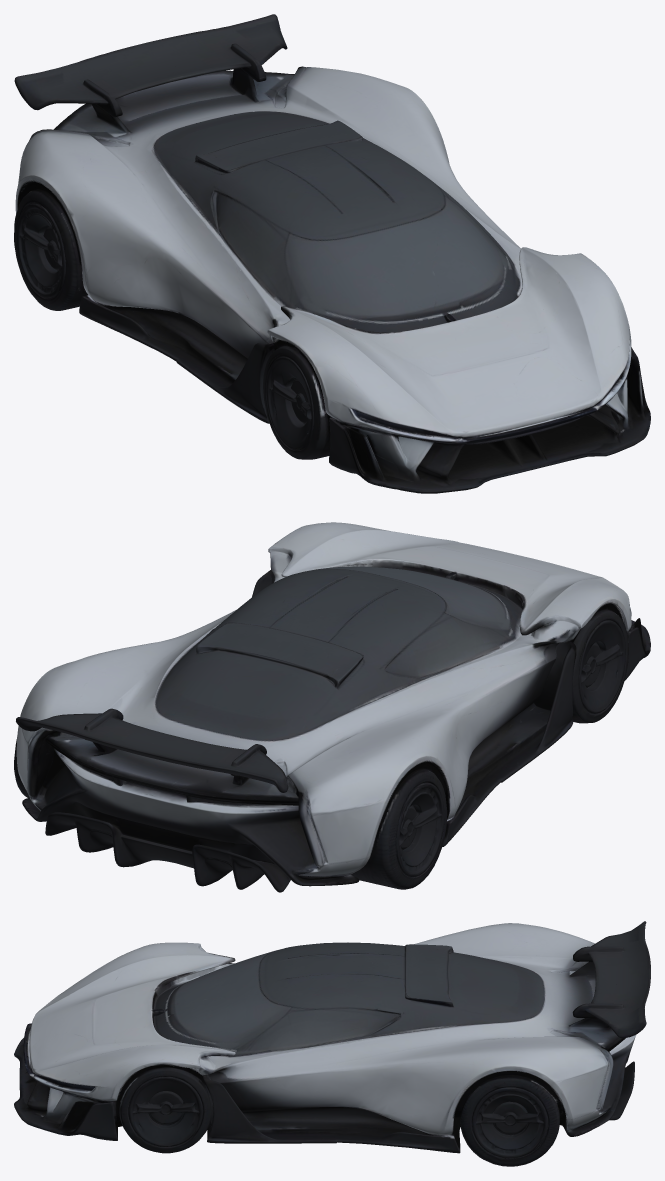
File: will_GT_mini.glb
3 views of the same model, one above another, from view 1: azimuth 30°, elevation 25°; view 2: azimuth 150°, elevation 25°; view 3: azimuth 270°, elevation 25° (orthographic). The views are drawn at different scales.
Visible parts, largest first — view 1: WillGT; view 2: WillGT; view 3: WillGT.
Part boxes in pixels (bbox=[...]): WillGT: bbox=[14, 14, 650, 493]; WillGT: bbox=[14, 522, 650, 892]; WillGT: bbox=[14, 921, 650, 1166].
Bounding box in the file's own units: 0.6226 × 0.2531 × 1.12.
Materials: 1 (1 with a texture image).
